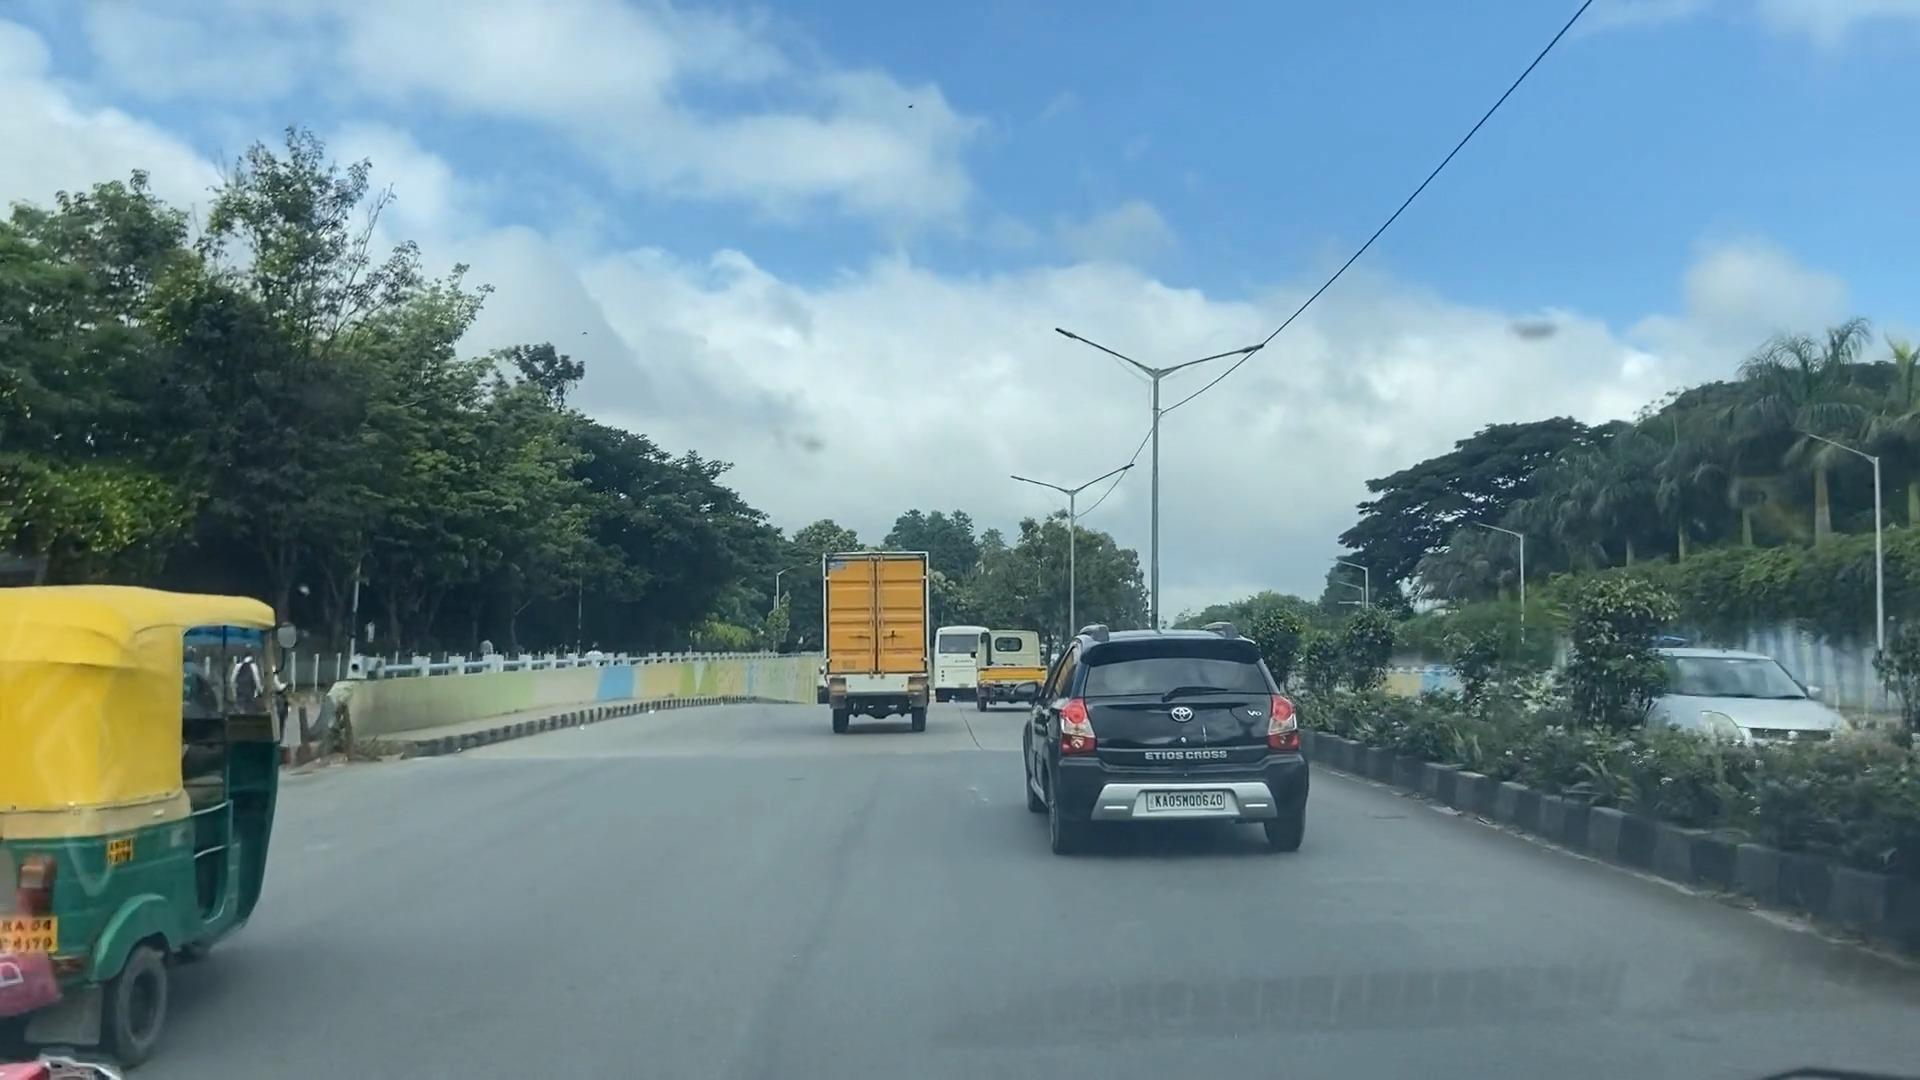HMV: (822, 556, 918, 716)
LMV: (0, 601, 320, 1051), (1009, 620, 1291, 848)
